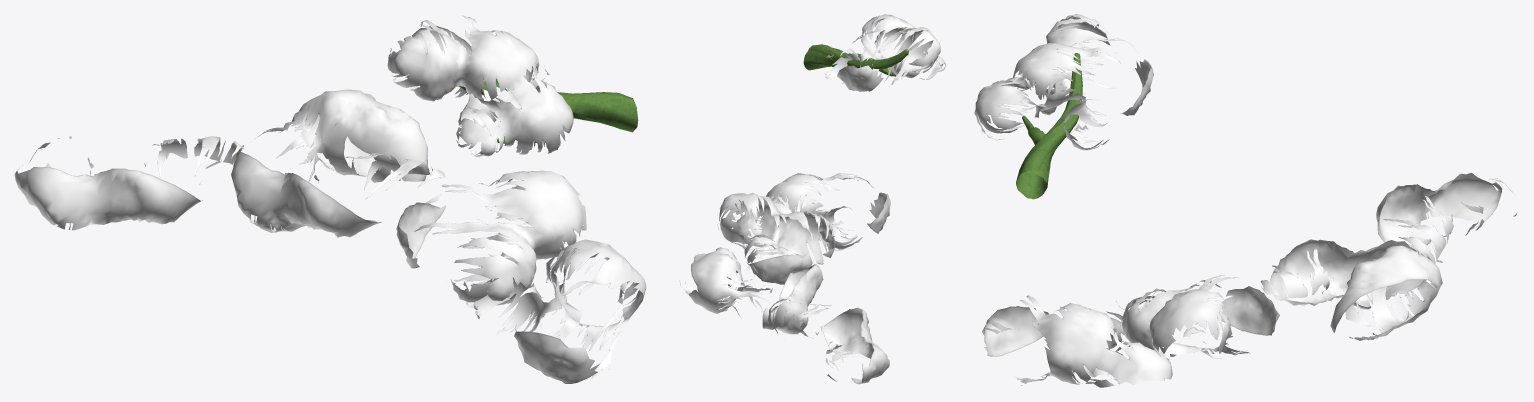
Rendered from SM_ENV_KNFRST_DistanceLeaf_GroupGb.FBX.
The picture shows the model from 3 angles, left to right: view 1: azimuth 30°, elevation 25°; view 2: azimuth 150°, elevation 25°; view 3: azimuth 270°, elevation 25°; orthographic projection. The views are drawn at different scales.
Parts seen in each view (by area): view 1: SM_ENV_KNFRST_DistanceLeaf_GroupGb; view 2: SM_ENV_KNFRST_DistanceLeaf_GroupGb; view 3: SM_ENV_KNFRST_DistanceLeaf_GroupGb.
Boxes of the visible parts, x1,y1,x2,y2 form: SM_ENV_KNFRST_DistanceLeaf_GroupGb: (14, 15, 646, 383); SM_ENV_KNFRST_DistanceLeaf_GroupGb: (679, 14, 945, 384); SM_ENV_KNFRST_DistanceLeaf_GroupGb: (974, 14, 1517, 387).
Size of the model in its own units: 4928 by 4191 by 6660.
